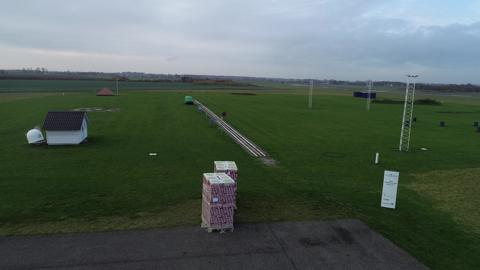RockwoolPallet: (213, 158, 242, 198)
